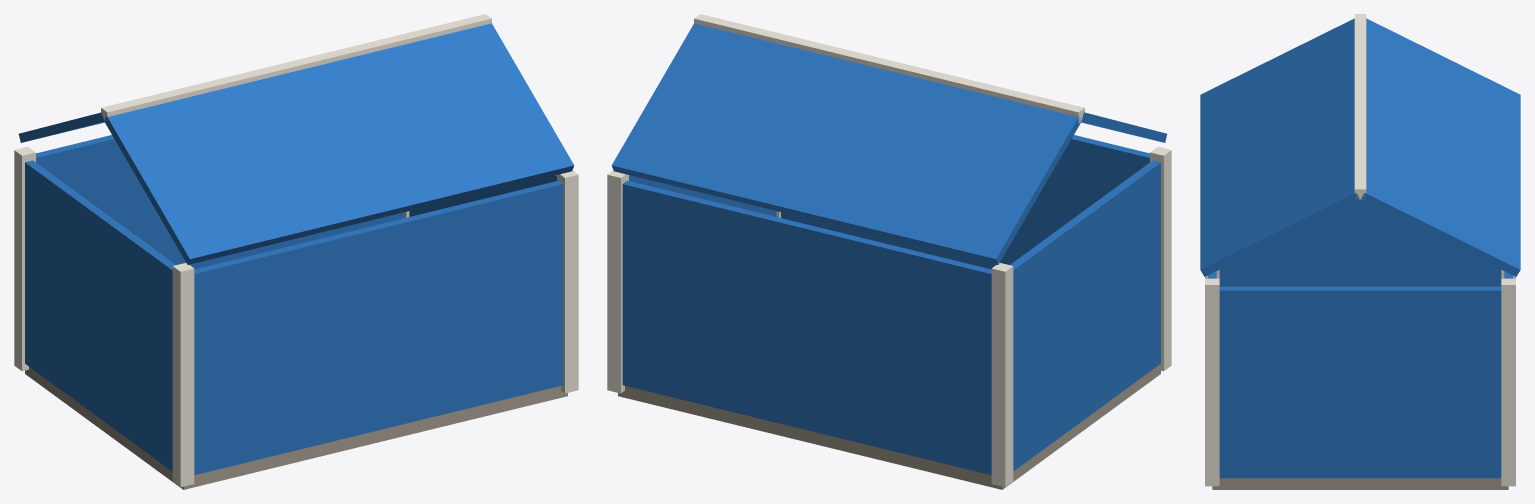
Rendered from garden2_greenhouse.glb.
3 renders of one model, left to right at view 1: azimuth 30°, elevation 25°; view 2: azimuth 150°, elevation 25°; view 3: azimuth 270°, elevation 25°, orthographic. The views are drawn at different scales.
Visible parts, largest first — view 1: greenhouse; view 2: greenhouse; view 3: greenhouse.
Part boxes in pixels (bbox=[...]): greenhouse: bbox=[14, 14, 578, 489]; greenhouse: bbox=[607, 14, 1171, 489]; greenhouse: bbox=[1200, 14, 1520, 489].
Size of the model in its own units: 1.45 by 1.12 by 1.08.
